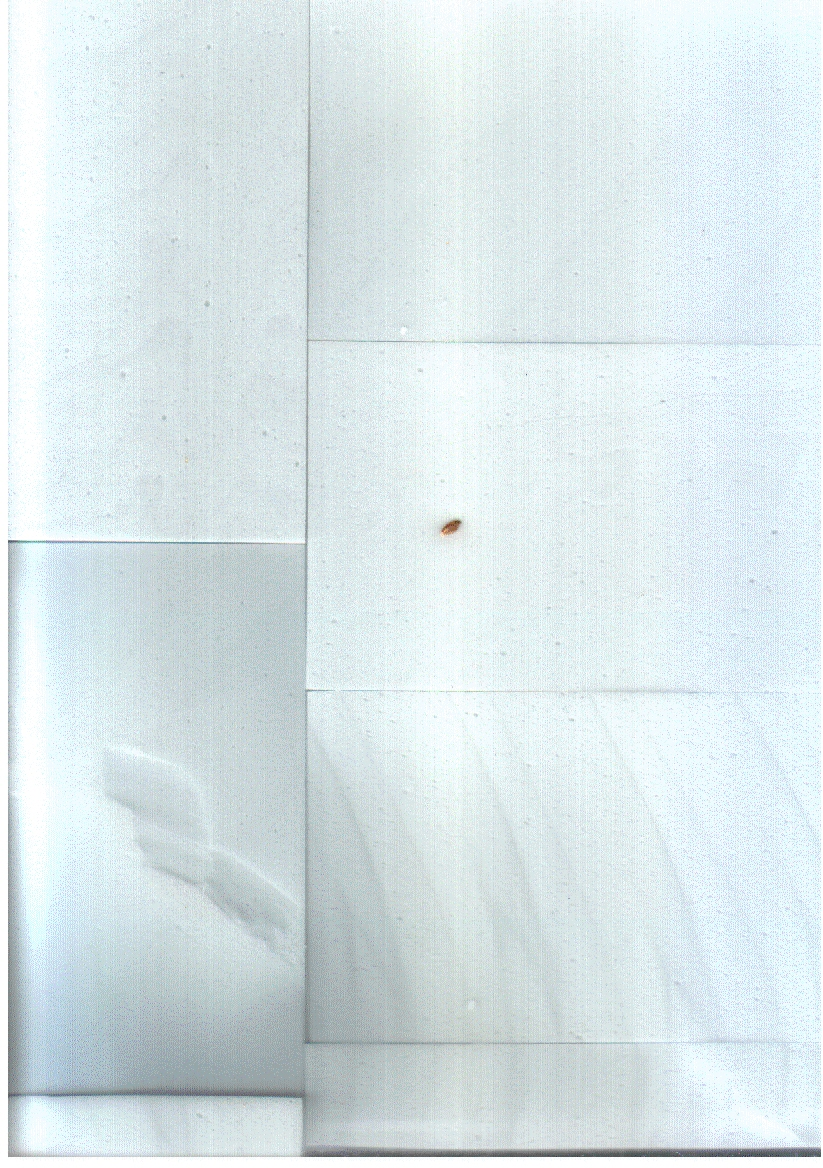grains: (433, 497, 472, 553)
